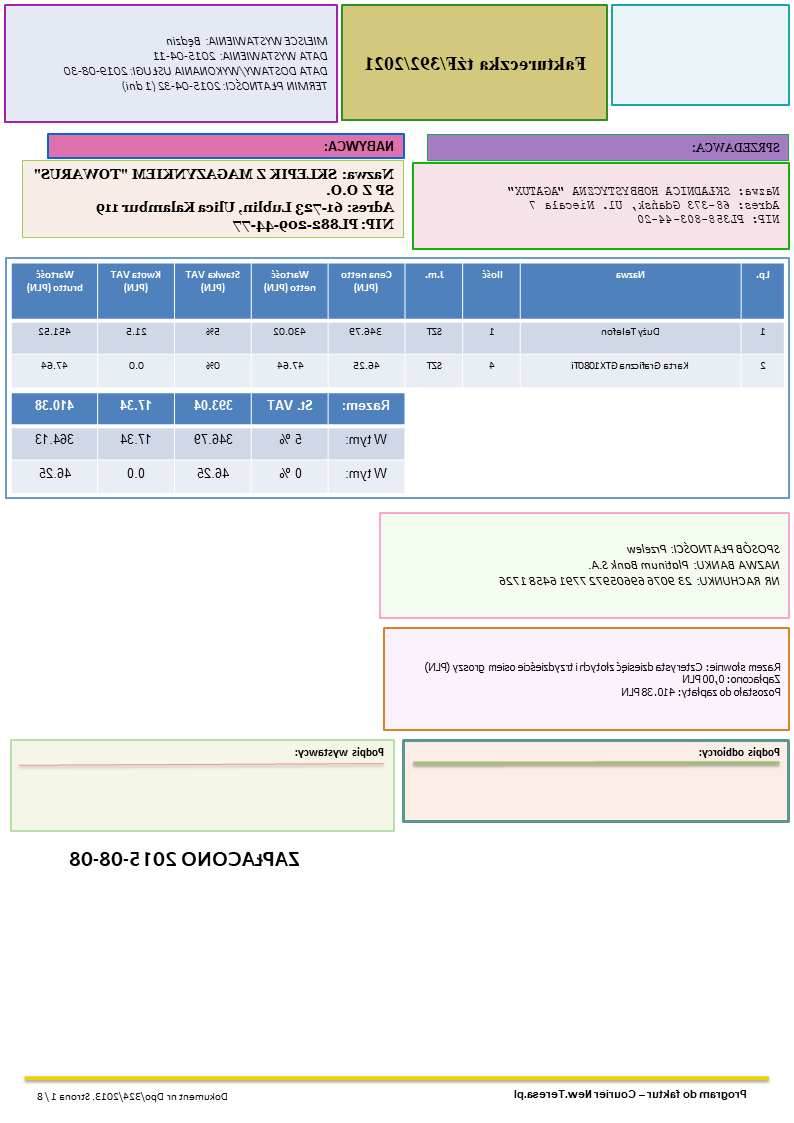Table: (11, 261, 785, 389), (11, 391, 406, 494)
TextBox: (32, 166, 397, 233), (62, 34, 330, 94), (423, 659, 782, 699), (497, 540, 783, 588), (507, 182, 782, 226), (364, 53, 588, 73), (69, 849, 301, 868), (512, 1086, 750, 1103), (35, 1088, 230, 1105), (689, 139, 783, 156), (294, 744, 387, 761), (697, 744, 783, 760), (323, 137, 396, 154)
